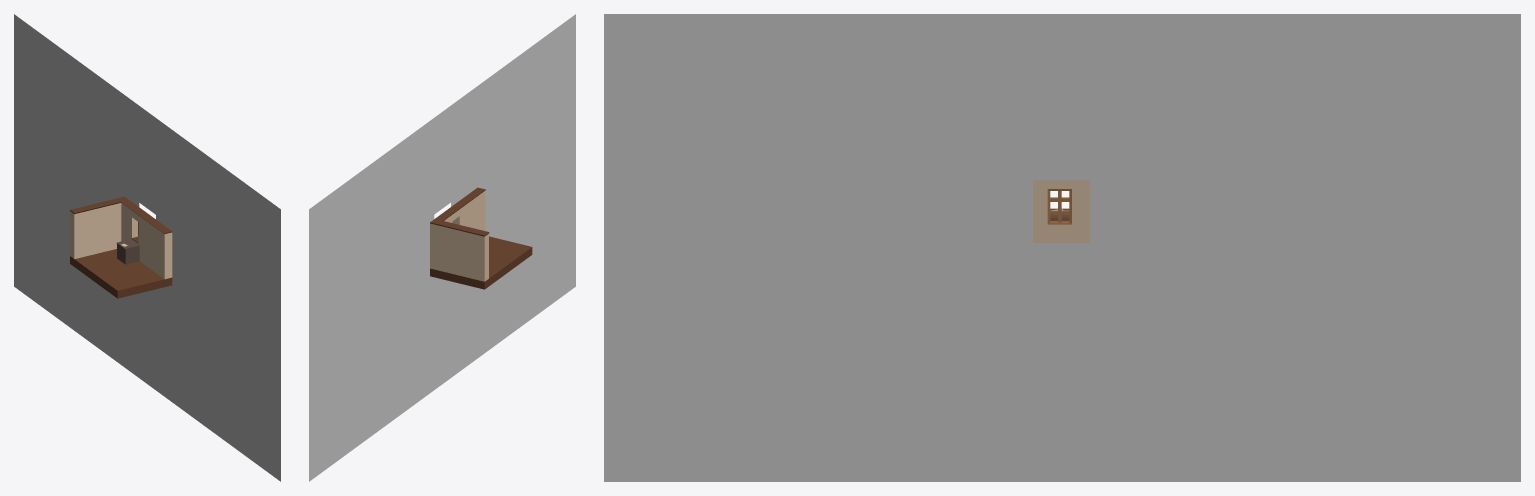
The model's file is room.fbx.
3 renders of one model, left to right at view 1: azimuth 30°, elevation 25°; view 2: azimuth 150°, elevation 25°; view 3: azimuth 270°, elevation 25°, orthographic. The views are drawn at different scales.
Parts seen in each view (by area): view 1: ceiling, walls, Cube, cuboard; view 2: ceiling, walls, Cube; view 3: ceiling, walls.
Boxes of the visible parts, x1,y1,x2,y2 form: ceiling: [14, 14, 280, 481]; walls: [70, 196, 172, 279]; Cube: [70, 249, 172, 298]; cuboard: [116, 239, 139, 264]; ceiling: [309, 14, 575, 481]; walls: [430, 187, 489, 281]; Cube: [430, 236, 532, 289]; ceiling: [604, 14, 1520, 481]; walls: [1033, 180, 1090, 243].
Size of the model in its own units: 10.39 by 45.2 by 80.24.
